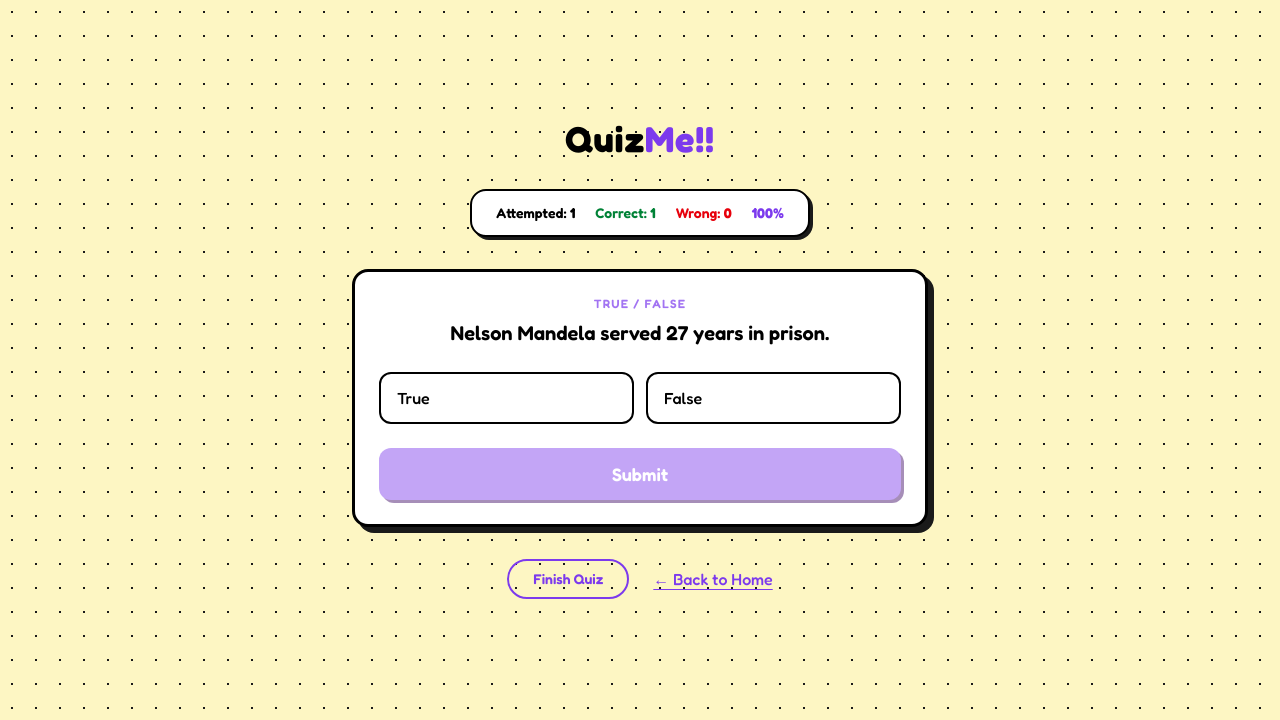
Test case: Quiz page — in progress › shows the Next Question button after answering a non-final question
What coordinates should you click on to do the following:
click the button "True"
I would click on:
 (506, 398)
Its box is [379,372,634,424].
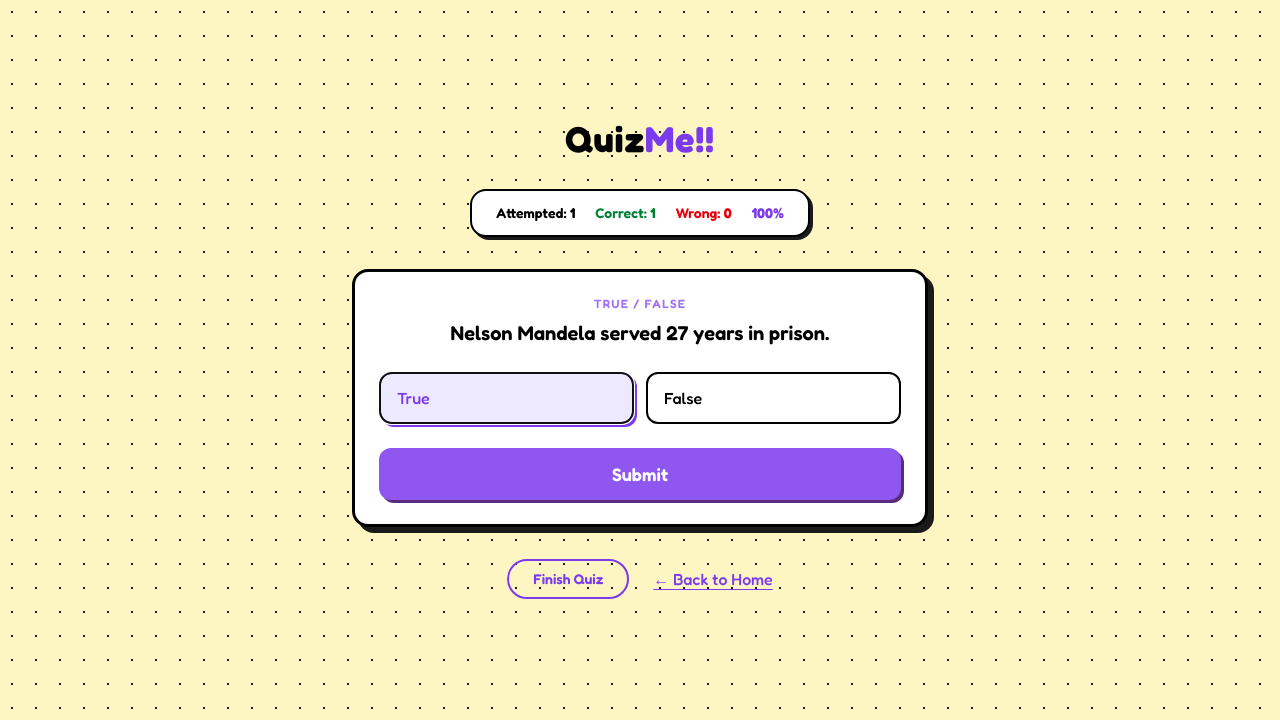
What coordinates should you click on to do the following:
click the button "Submit"
I would click on:
 (640, 474)
Its box is [379,448,901,500].
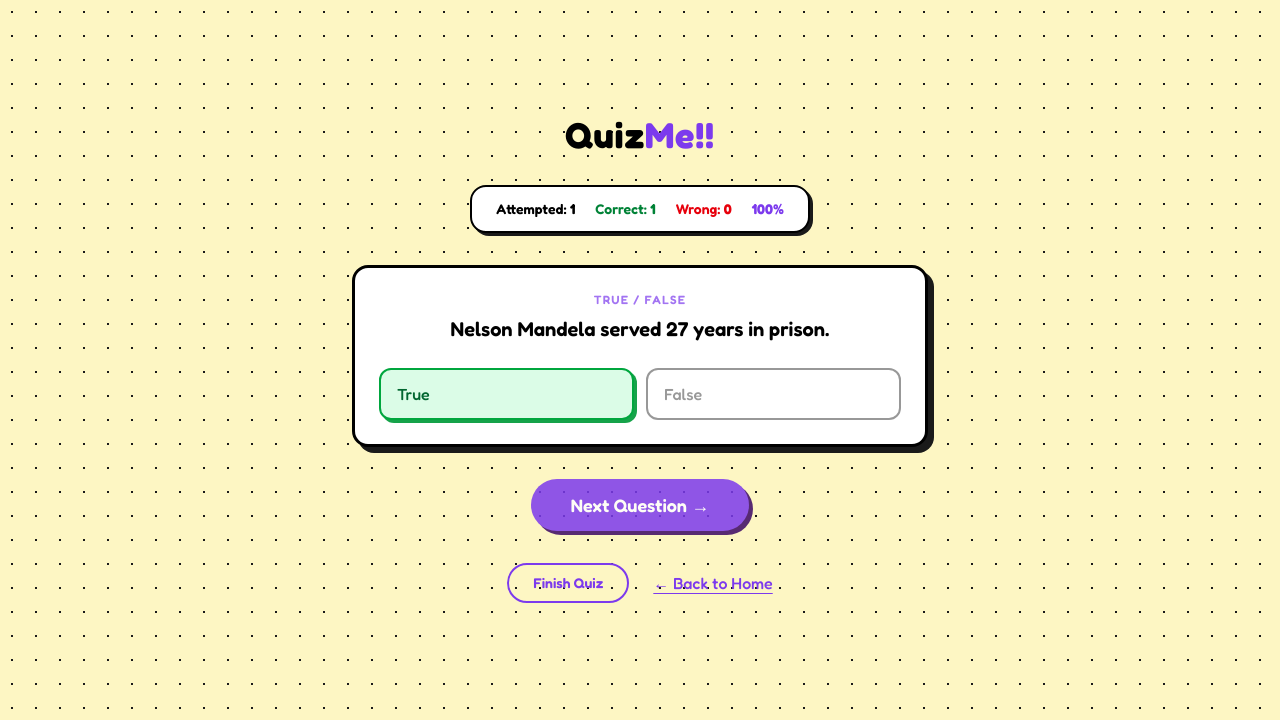
Check: the button "Next Question →" is shown, box [531,479,749,531]
